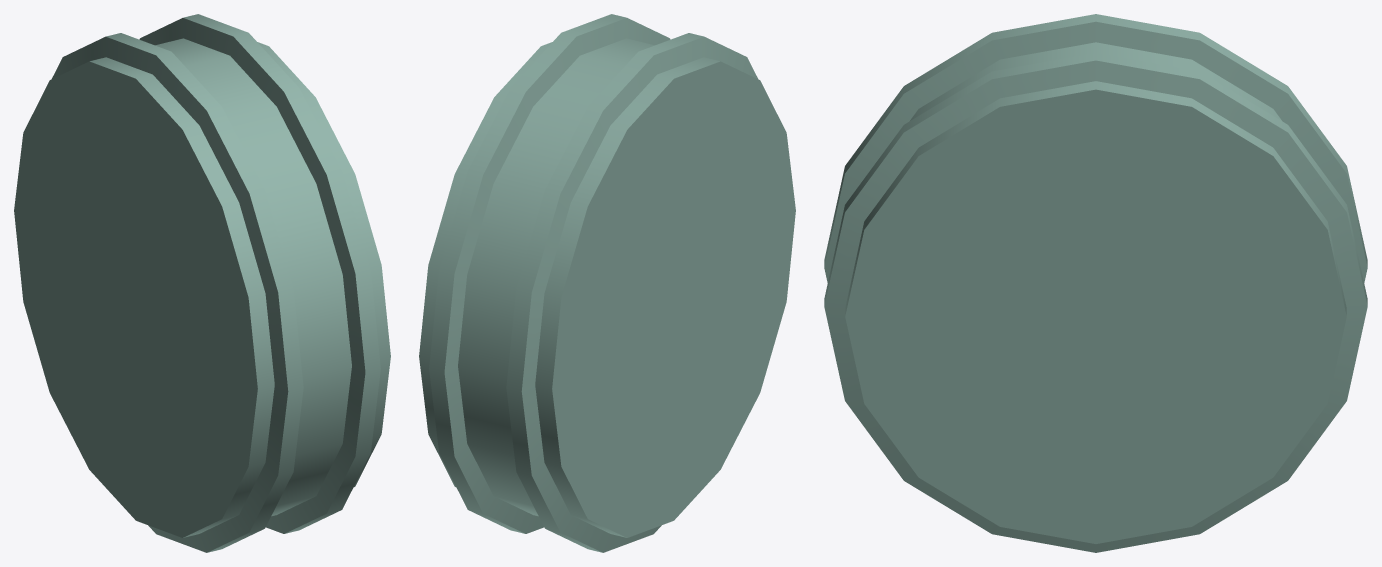
The model's file is PipeLarge_Connector_04.fbx.
The picture shows the model from 3 angles, left to right: view 1: azimuth 30°, elevation 25°; view 2: azimuth 150°, elevation 25°; view 3: azimuth 270°, elevation 25°; orthographic projection. The views are drawn at different scales.
Visible parts, largest first — view 1: PipeLarge_Connector_04.001; view 2: PipeLarge_Connector_04.001; view 3: PipeLarge_Connector_04.001.
Part boxes in pixels (x1=…): PipeLarge_Connector_04.001: x1=14, y1=14, x2=390, y2=552; PipeLarge_Connector_04.001: x1=419, y1=14, x2=795, y2=552; PipeLarge_Connector_04.001: x1=824, y1=14, x2=1367, y2=552.
Size of the model in its own units: 0.0679 by 0.2334 by 0.2334.
